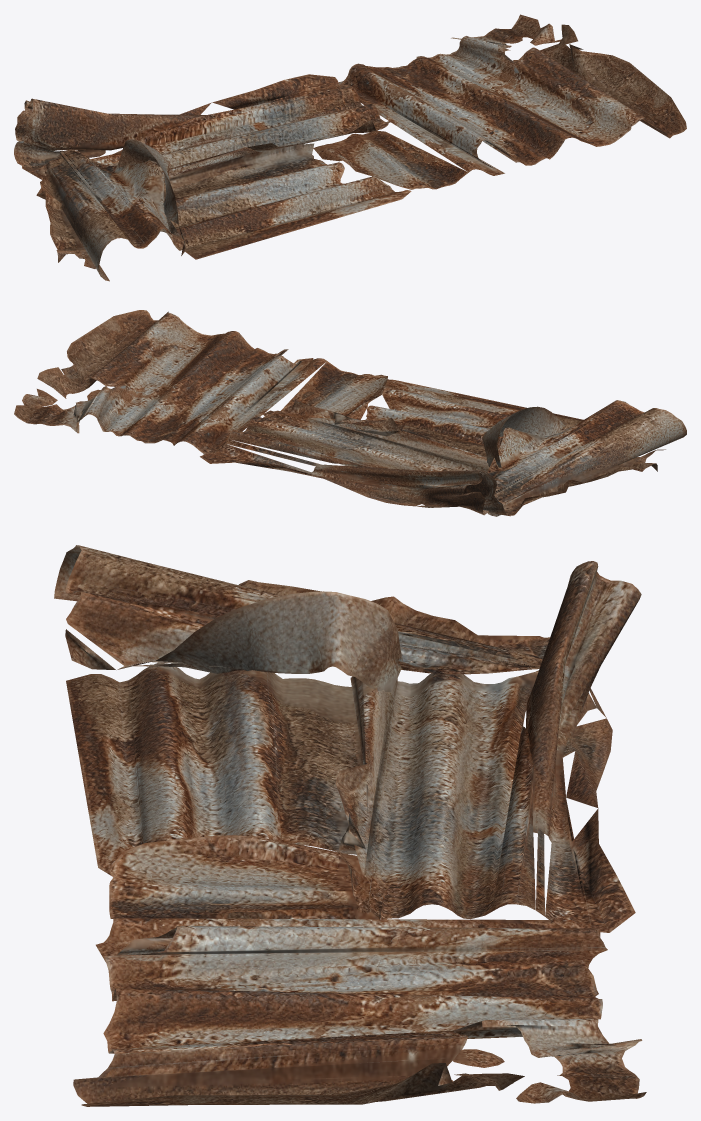
Rendered from Meshy_AI_Rusty_Corrugated_Sheets_20261028_texture.fbx.
3 renders of one model, top to bottom at view 1: azimuth 30°, elevation 25°; view 2: azimuth 150°, elevation 25°; view 3: azimuth 270°, elevation 25°, orthographic. The views are drawn at different scales.
Visible parts, largest first — view 1: Mesh_0; view 2: Mesh_0; view 3: Mesh_0.
Part boxes in pixels (<box>): Mesh_0: <box>14,14,686,281</box>; Mesh_0: <box>14,310,686,516</box>; Mesh_0: <box>54,545,646,1106</box>.
Size of the model in its own units: 94.53 by 9.33 by 44.04.
Materials: 1 (1 with a texture image).
